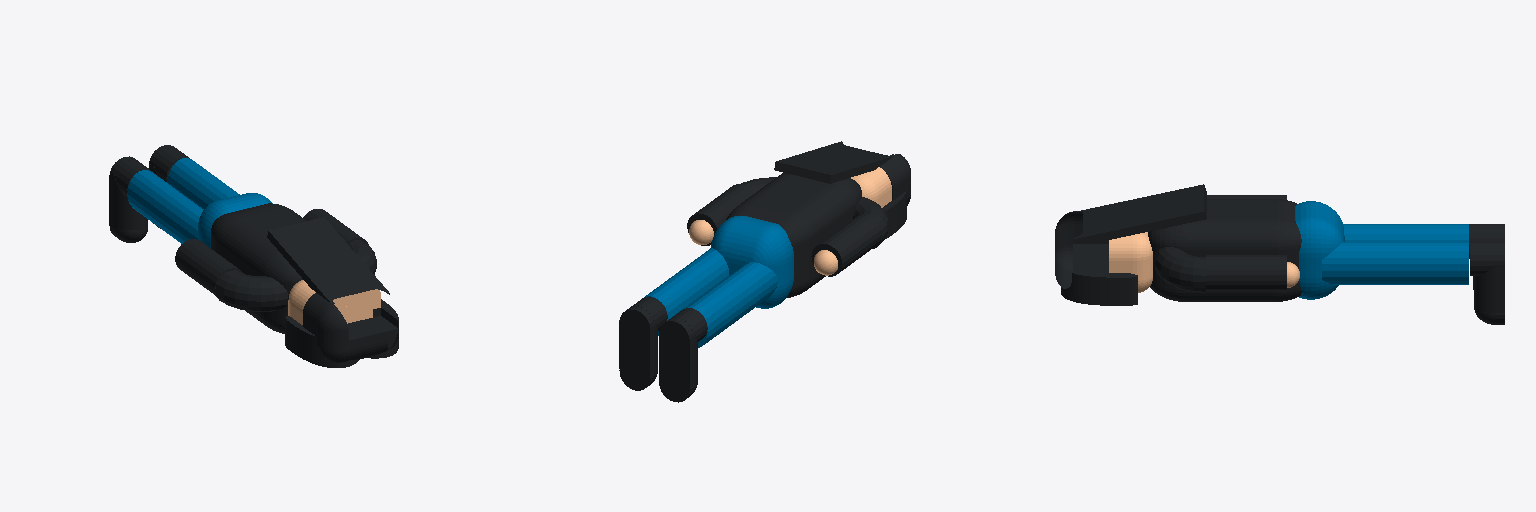
File: jae.obj
3 views of the same model, side by side, from view 1: azimuth 30°, elevation 25°; view 2: azimuth 150°, elevation 25°; view 3: azimuth 270°, elevation 25° (orthographic).
Parts seen in each view (by area): view 1: obj_0; view 2: obj_0; view 3: obj_0.
Part boxes in pixels (x1,y1,x2,y2): obj_0: (109,145,398,367); obj_0: (619,141,910,402); obj_0: (1055,184,1504,324).
Size of the model in its own units: 40.25 by 29.38 by 101.